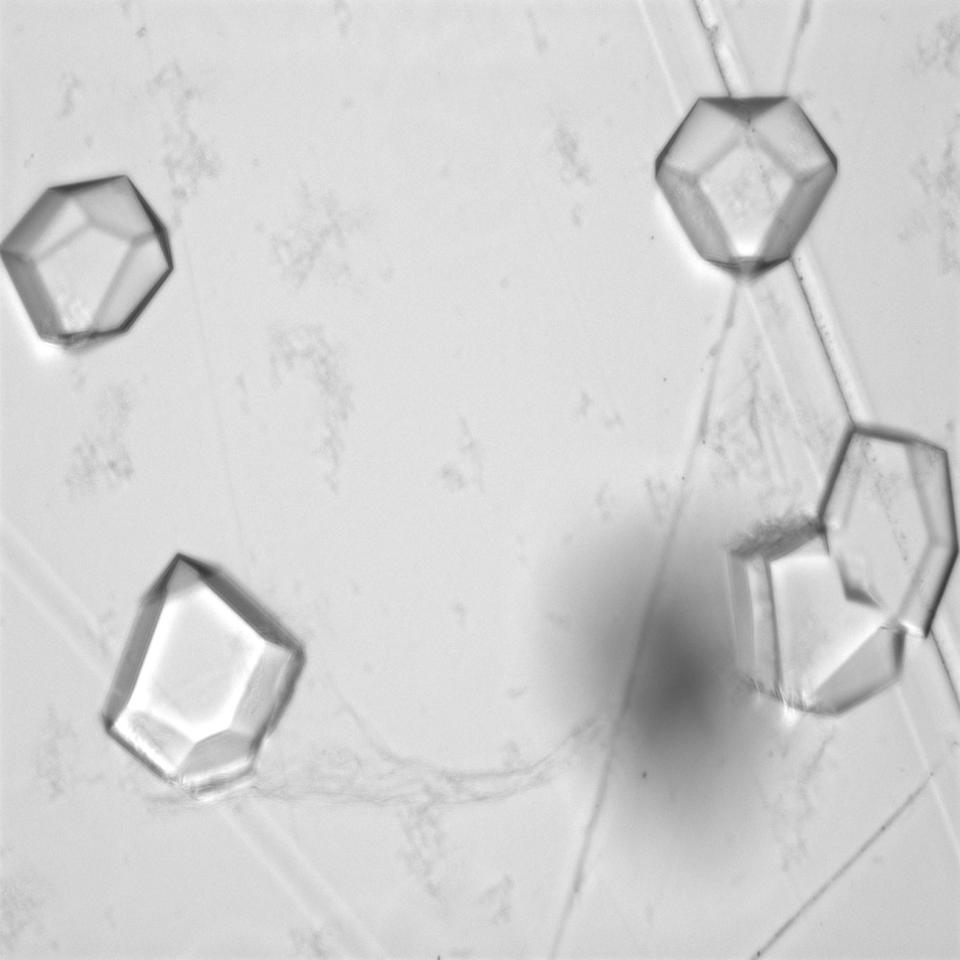crystal: (94, 548, 321, 801), (650, 92, 850, 298), (4, 166, 181, 335)
not_crystal: (721, 428, 960, 726)
